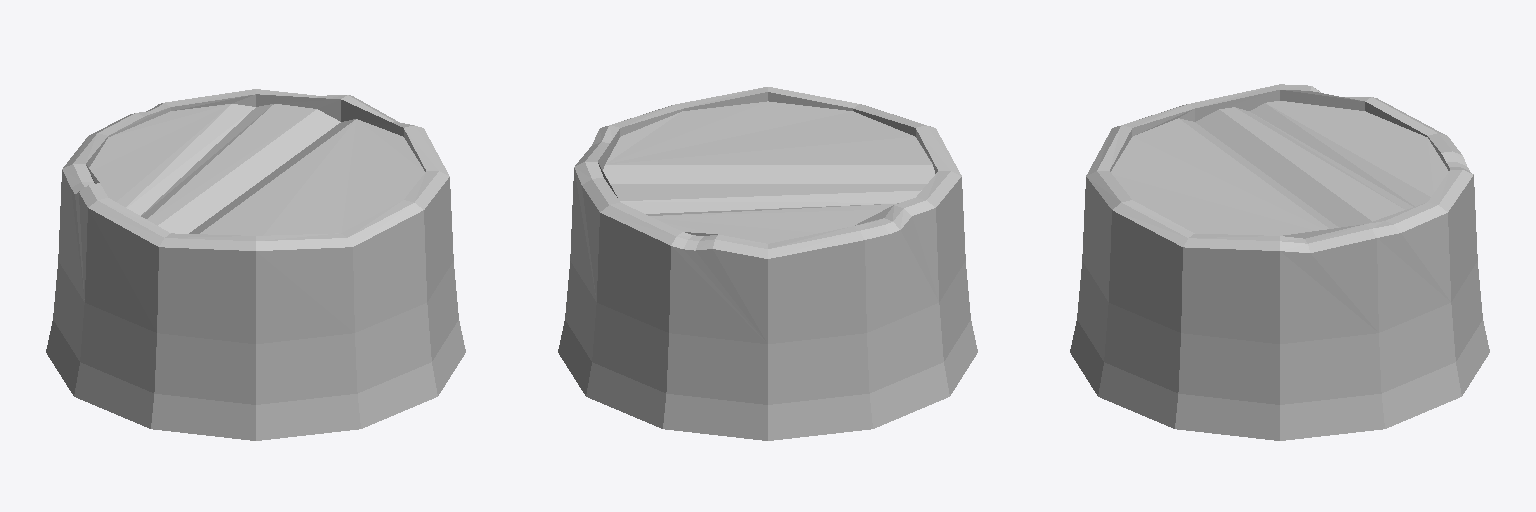
The model's file is Stump_1.obj.
The picture shows the model from 3 angles: view 1: azimuth 30°, elevation 25°; view 2: azimuth 150°, elevation 25°; view 3: azimuth 270°, elevation 25°; orthographic projection.
Visible parts, largest first — view 1: Cylinder.081_Cylinder.140; view 2: Cylinder.081_Cylinder.140; view 3: Cylinder.081_Cylinder.140.
Part boxes in pixels (x1,y1,x2,y2): Cylinder.081_Cylinder.140: (46, 89, 465, 440); Cylinder.081_Cylinder.140: (558, 87, 977, 440); Cylinder.081_Cylinder.140: (1070, 84, 1489, 440).
Bounding box in the file's own units: 0.4112 × 0.208 × 0.4112.